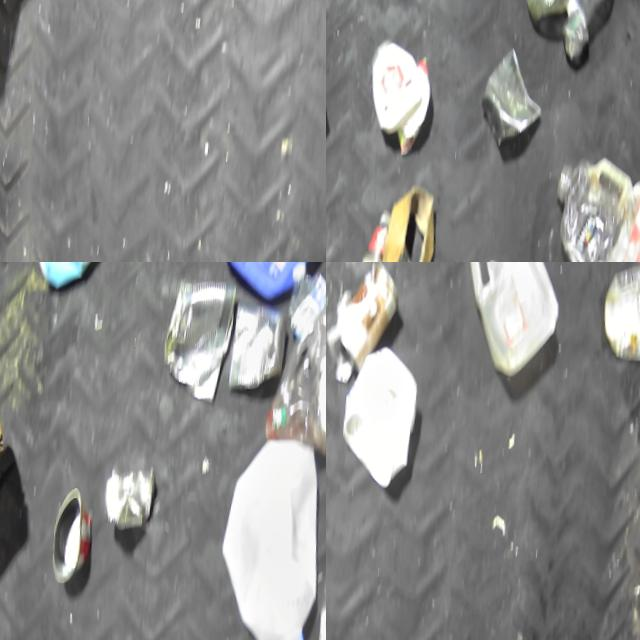can: (156, 274, 240, 410), (326, 262, 401, 390), (475, 51, 546, 155), (224, 295, 291, 404), (42, 482, 96, 598), (98, 457, 158, 537)
milk_jug: (207, 434, 326, 640), (450, 262, 571, 391), (332, 344, 421, 497)
non_white_jug: (260, 290, 326, 471), (541, 155, 640, 262), (215, 262, 319, 311)
plastic_bottle: (281, 262, 326, 348), (305, 539, 326, 640)
